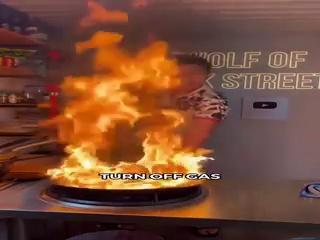Fire: (47, 1, 215, 183)
